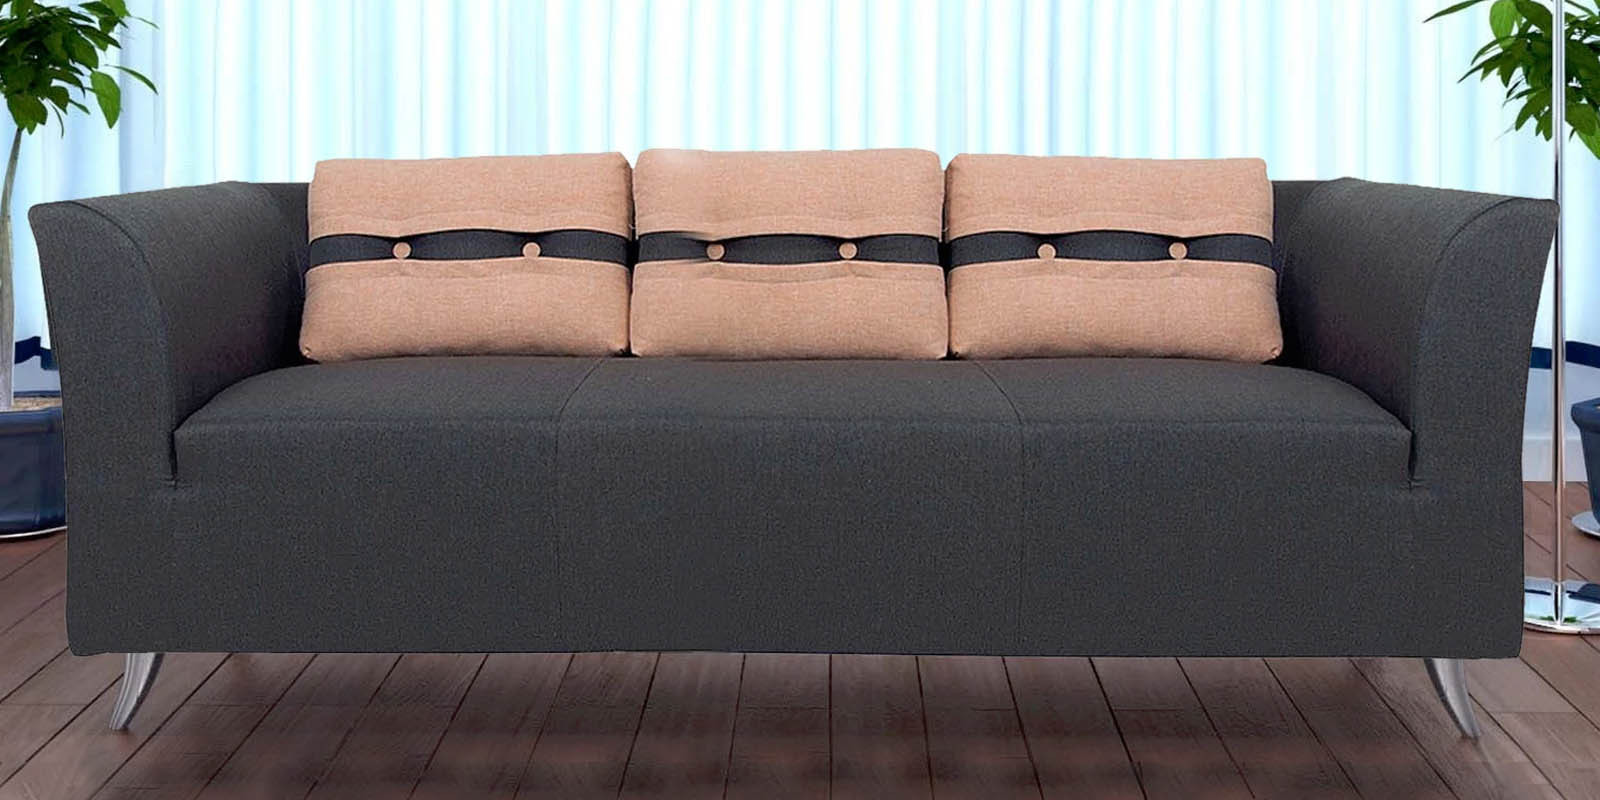Iowa Three Seater Sofa in Steel Grey Colour by Furnitech: (37, 132, 1543, 761)
